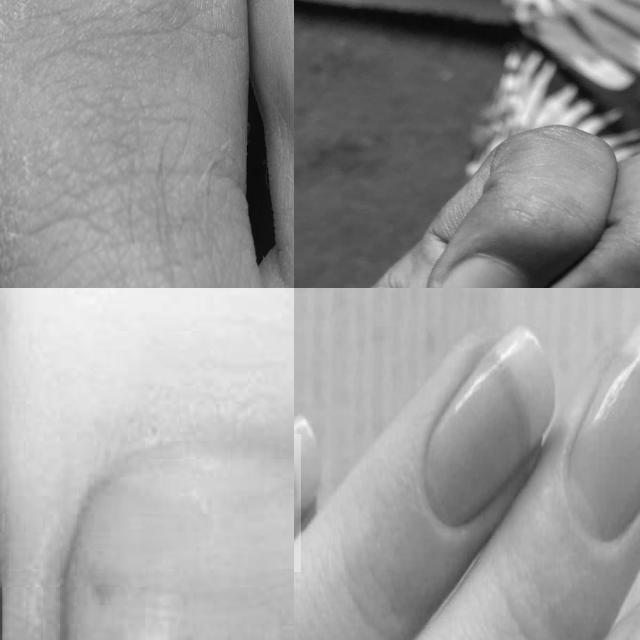diabetes: (62, 451, 294, 640)
sehat: (423, 348, 531, 528), (566, 348, 640, 541), (440, 255, 526, 288)
